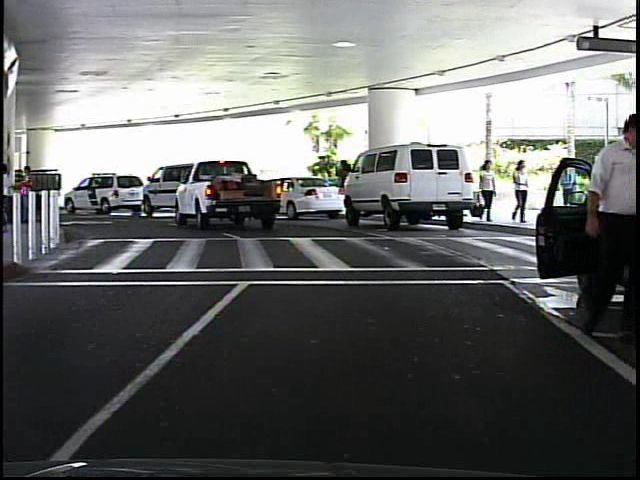person: (577, 108, 640, 340), (505, 158, 530, 227), (332, 155, 354, 217), (474, 157, 493, 226)
